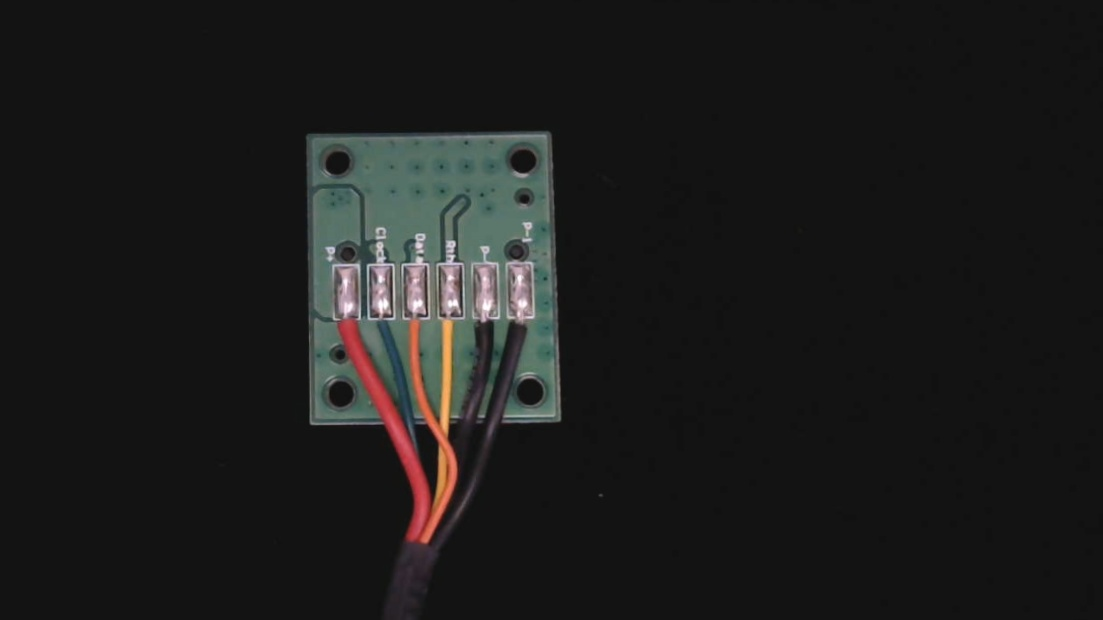Black: (469, 305, 501, 369)
Black1: (506, 304, 537, 363)
Green: (368, 302, 400, 364)
Orange: (403, 303, 433, 366)
Red: (331, 306, 363, 368)
Yellow: (437, 303, 468, 368)
